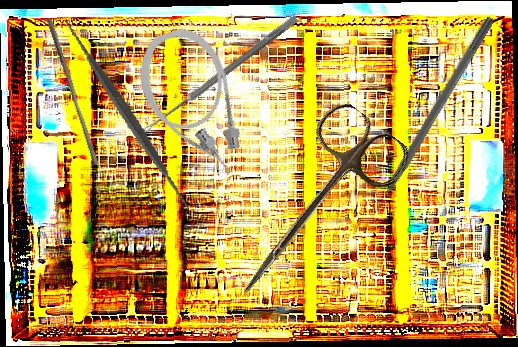Cannula: (128, 19, 256, 193)
Iris Scissors: (210, 95, 416, 325)
Pusher: (362, 13, 497, 224), (40, 18, 105, 166)
Spatula Surgical: (21, 10, 234, 222)
Surgical Spoon: (139, 14, 299, 137)
